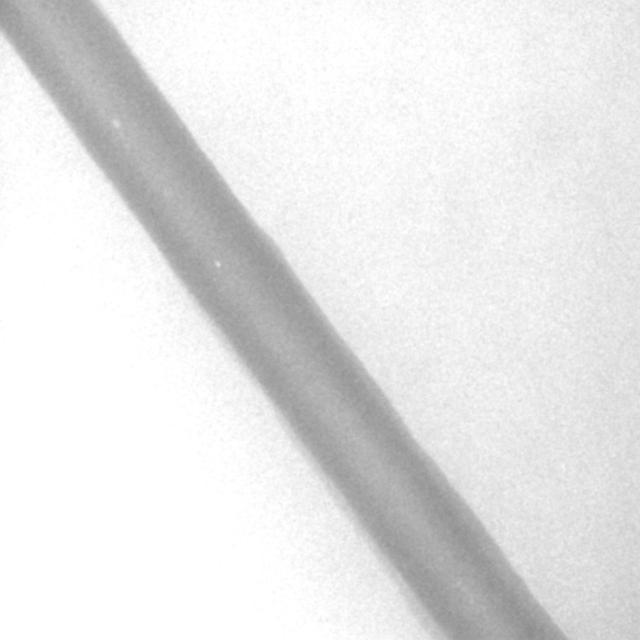air-hole: (111, 118, 121, 132), (212, 257, 220, 268)
